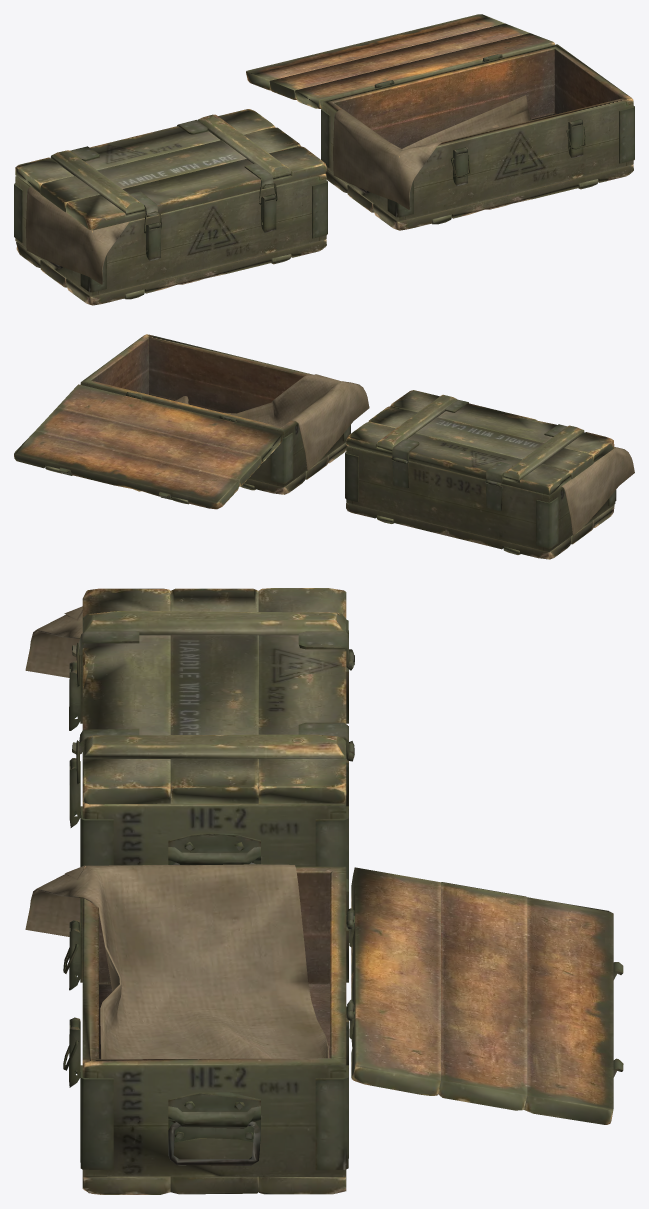
Rendered from old_military_crate.glb.
3 renders of one model, top to bottom at view 1: azimuth 30°, elevation 25°; view 2: azimuth 150°, elevation 25°; view 3: azimuth 270°, elevation 25°, orthographic. The views are drawn at different scales.
Parts seen in each view (by area): view 1: old_military_crate_lid_a; view 2: old_military_crate_lid_a; view 3: old_military_crate_lid_a.
Boxes of the visible parts, x1,y1,x2,y2 form: old_military_crate_lid_a: (14,14,634,305); old_military_crate_lid_a: (14,334,634,559); old_military_crate_lid_a: (25,588,623,1194).
Size of the model in its own units: 1.82 by 0.3009 by 0.9756.
1 material, 1 textured.
